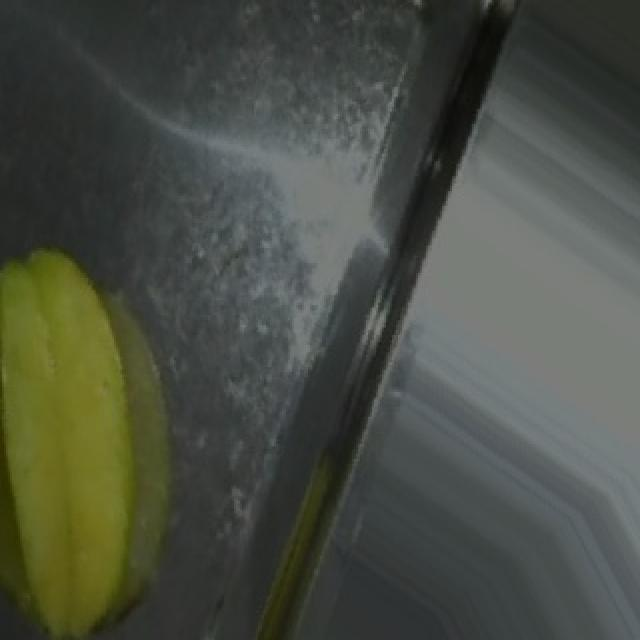fruit: (0, 233, 258, 630)
